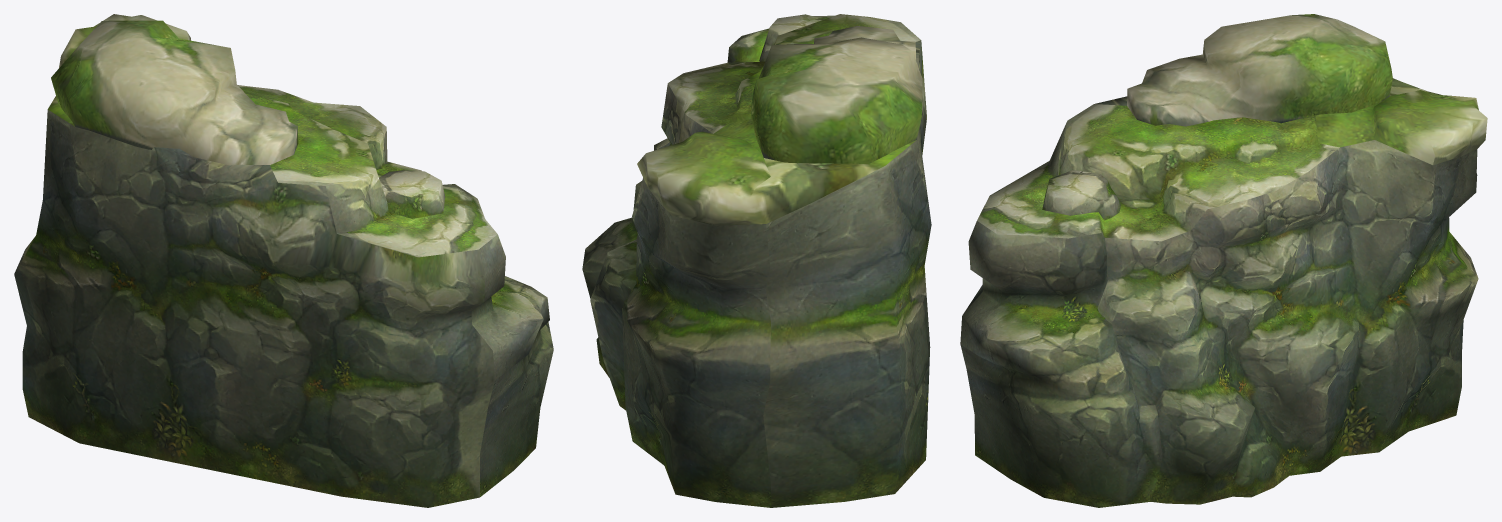
3 renders of one model, left to right at view 1: azimuth 30°, elevation 25°; view 2: azimuth 150°, elevation 25°; view 3: azimuth 270°, elevation 25°, orthographic. The views are drawn at different scales.
Parts seen in each view (by area): view 1: st_005; view 2: st_005; view 3: st_005.
Part boxes in pixels (x1,y1,x2,y2): st_005: (14,14,553,507); st_005: (582,14,931,507); st_005: (960,14,1487,507).
Bounding box in the file's own units: 1017 × 937 × 1262.
